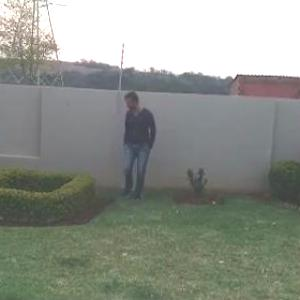follow: (121, 84, 158, 206)
